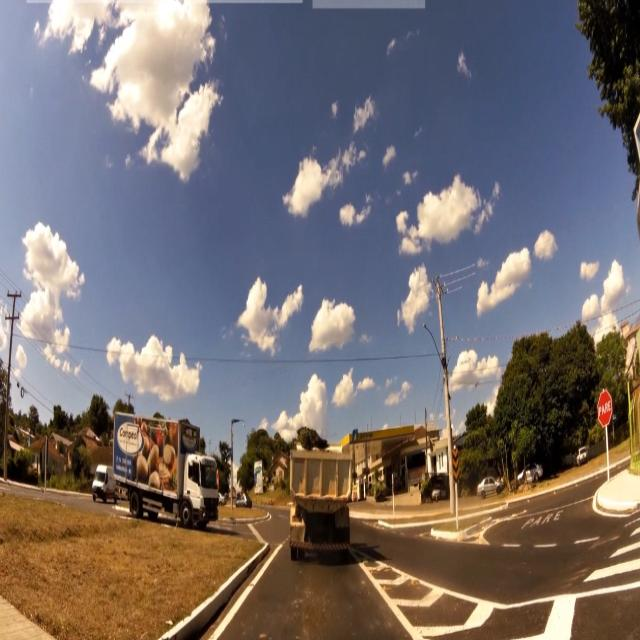R-1: (597, 388, 612, 428)
